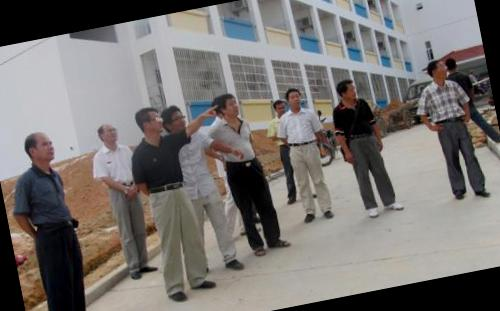no_helmet: (19, 124, 61, 171), (130, 101, 166, 141), (159, 100, 192, 137), (211, 88, 244, 124), (94, 117, 122, 148), (333, 74, 360, 104), (425, 56, 452, 84), (282, 83, 306, 113), (272, 96, 290, 120), (444, 51, 462, 73)
